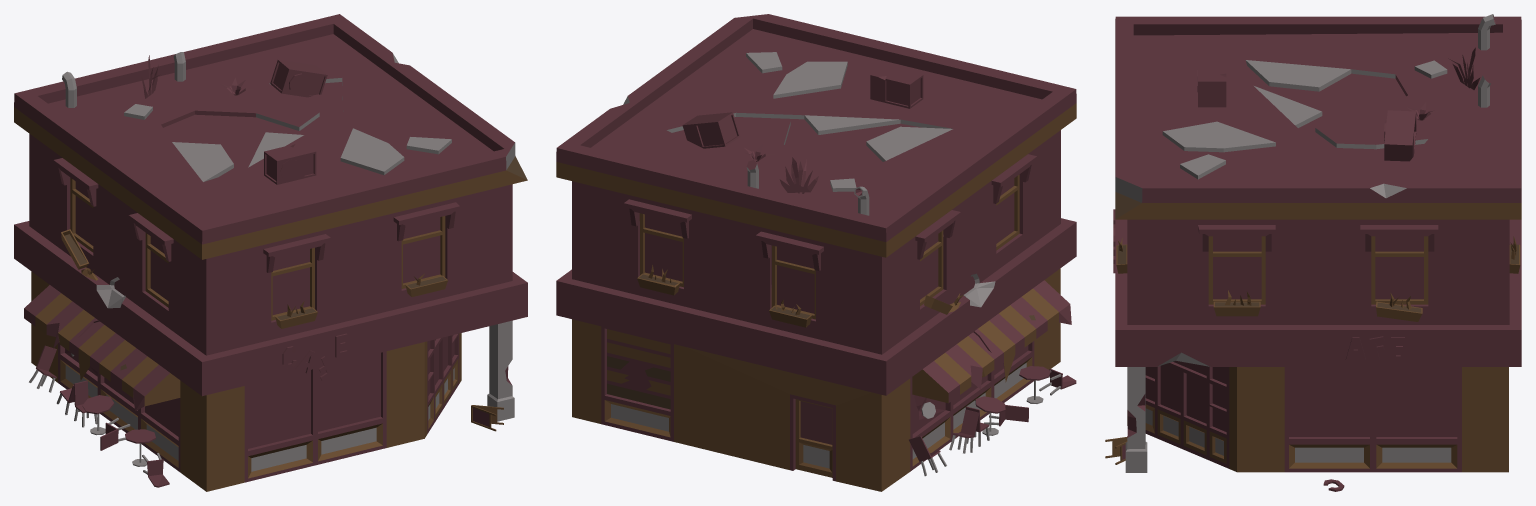
File: building-cafe-apocalypse.fbx
The picture shows the model from 3 angles, left to right: view 1: azimuth 30°, elevation 25°; view 2: azimuth 150°, elevation 25°; view 3: azimuth 270°, elevation 25°; orthographic projection. The views are drawn at different scales.
Visible parts, largest first — view 1: building-cafe-apocalypse; view 2: building-cafe-apocalypse; view 3: building-cafe-apocalypse.
Part boxes in pixels (left/top/right/bottom): building-cafe-apocalypse: left=14, top=14, right=527, bottom=491; building-cafe-apocalypse: left=556, top=14, right=1076, bottom=491; building-cafe-apocalypse: left=1105, top=14, right=1521, bottom=491.
Size of the model in its own units: 11.8 by 8.65 by 10.25.
